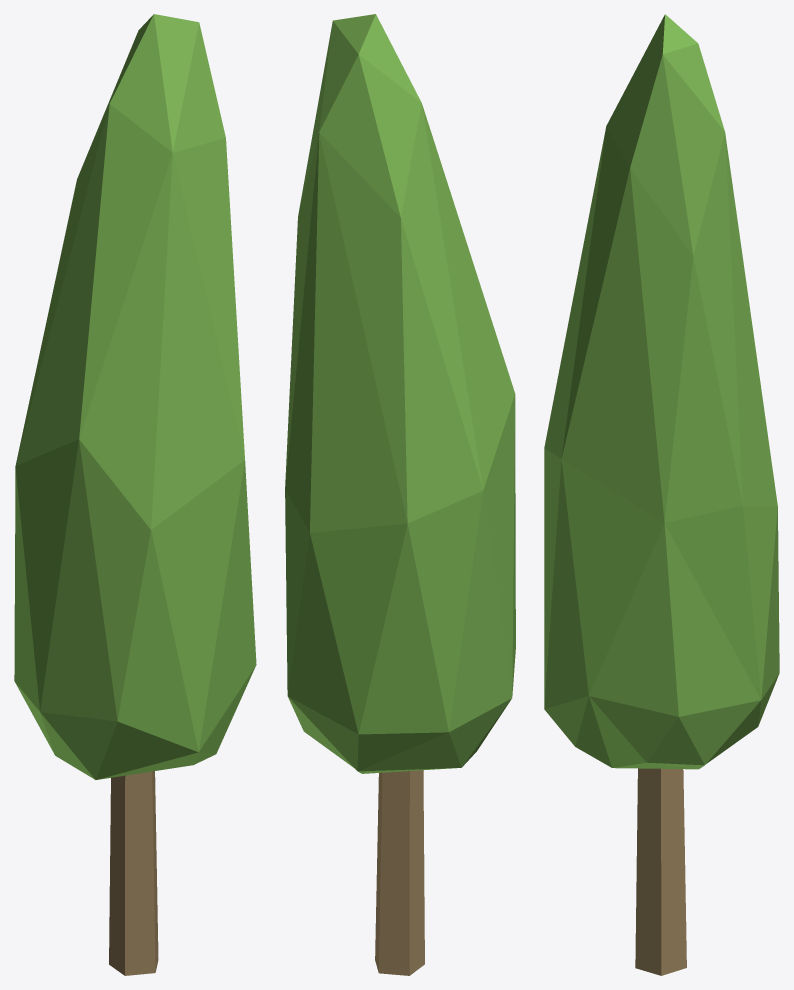
The model's file is Thuja_Tree_m_07.fbx.
3 renders of one model, left to right at view 1: azimuth 30°, elevation 25°; view 2: azimuth 150°, elevation 25°; view 3: azimuth 270°, elevation 25°, orthographic.
Parts seen in each view (by area): view 1: Thuja_Tree_m_07; view 2: Thuja_Tree_m_07; view 3: Thuja_Tree_m_07.
Boxes of the visible parts, x1,y1,x2,y2 form: Thuja_Tree_m_07: (14, 14, 256, 975); Thuja_Tree_m_07: (285, 14, 515, 975); Thuja_Tree_m_07: (544, 14, 779, 975).
Bounding box in the file's own units: 99.42 × 435 × 96.61.
